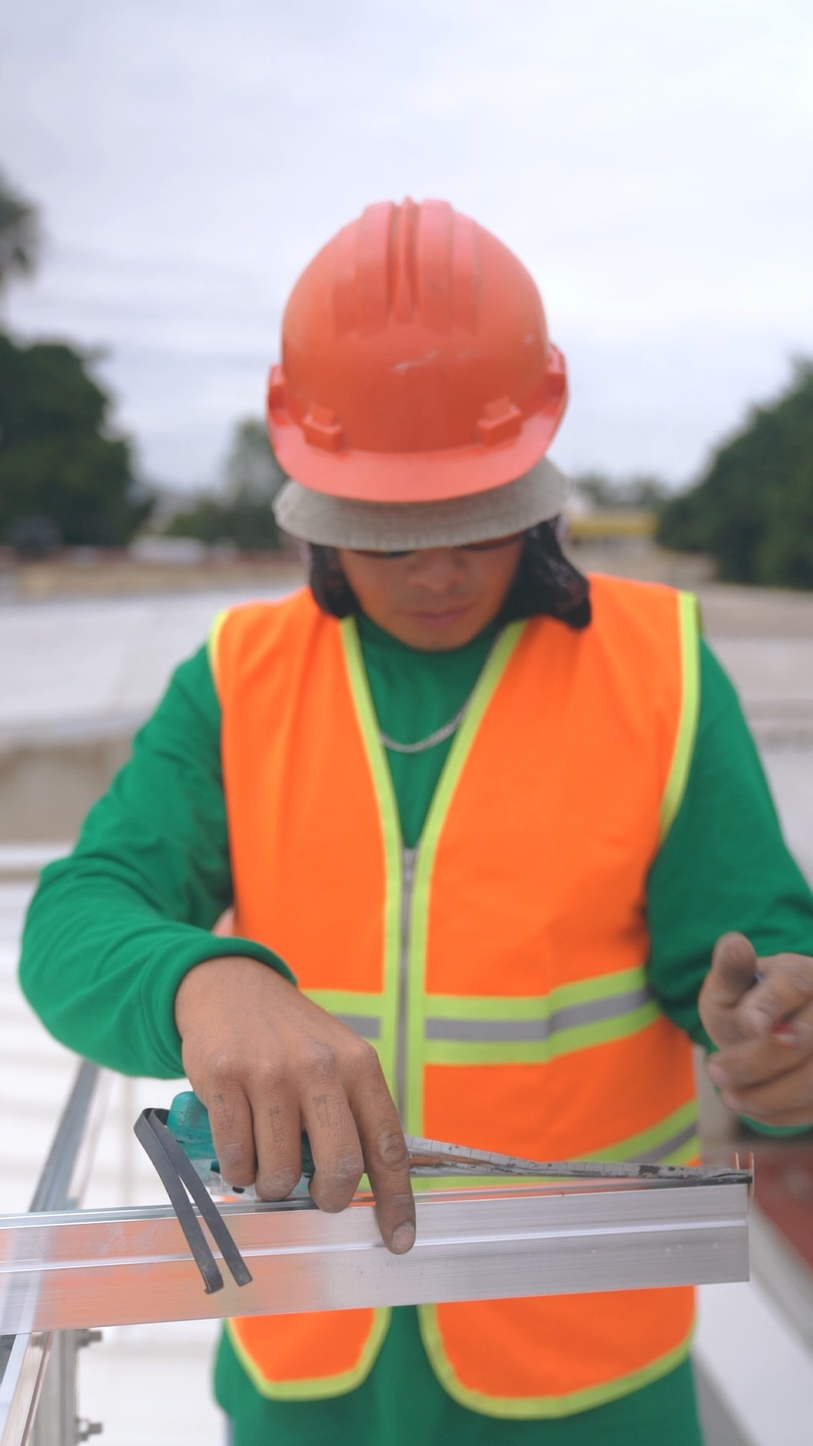No-gloves: (163, 949, 458, 1247), (652, 931, 813, 1132)
